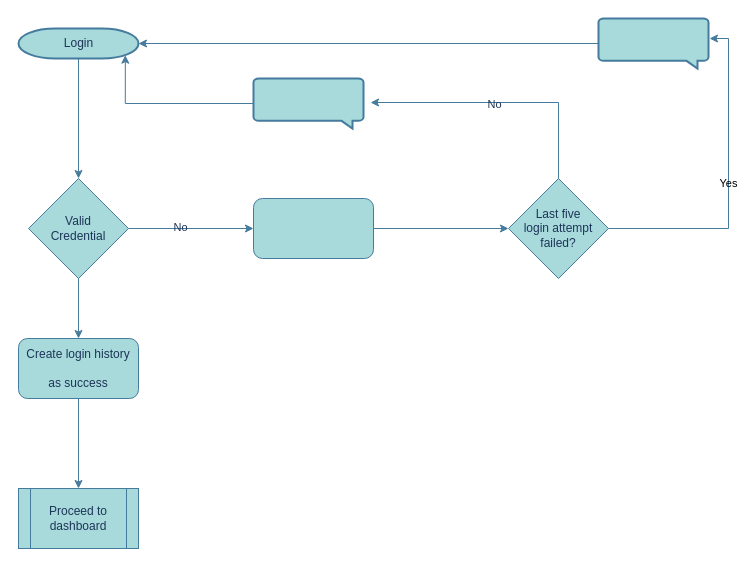
This 754x566 diagram has some shape labels left out. The centre of each missing label's shape, as x and y in pixels:
"Account is Locked" goes at pixel 653 43.
"Bad Credentials" goes at pixel 308 103.
"Create login history as failure" goes at pixel 313 228.
